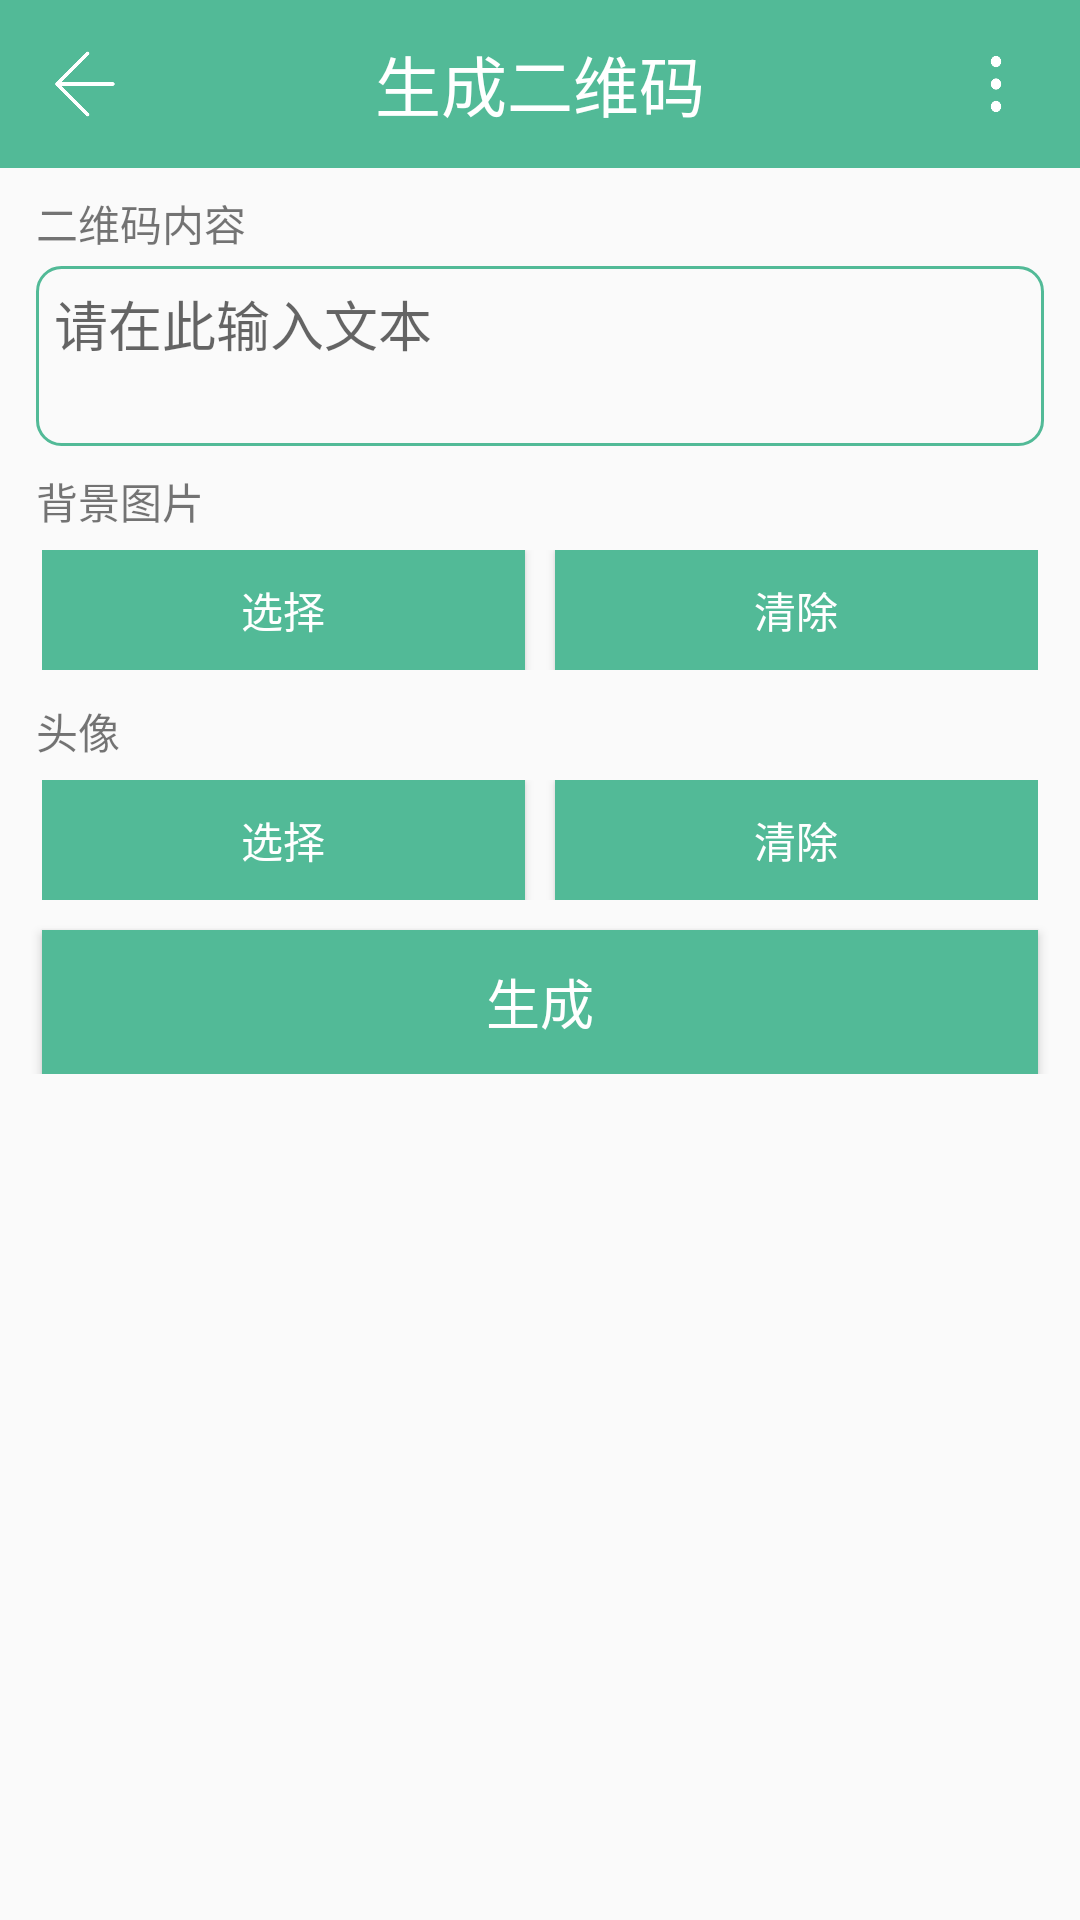

Named icons in this screenshot (1080px x 1920px) and their centers, point (x, y):
back: point (85, 84)
menu: point (996, 84)
